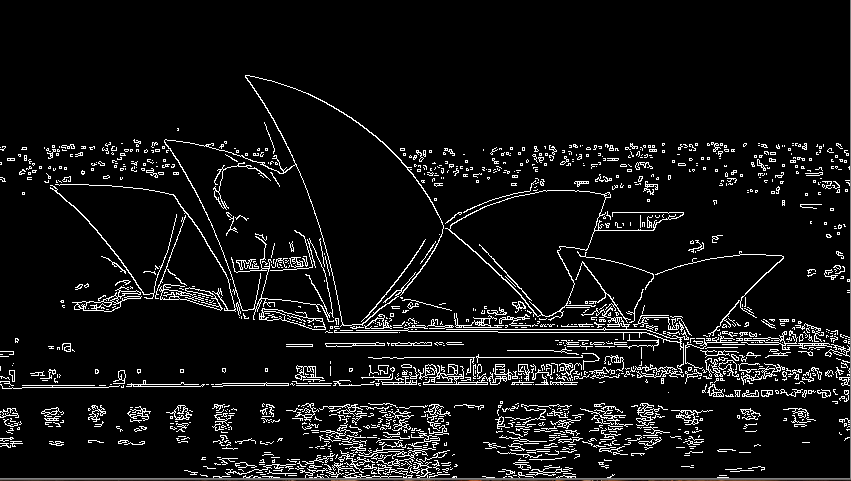opera house: (35, 46, 788, 328)
